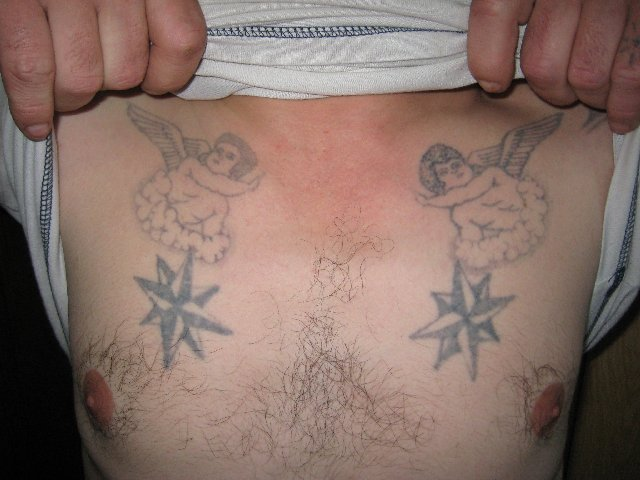tatu1_angel: (399, 107, 580, 284), (116, 96, 262, 265)
tatu4_zvezda: (117, 249, 237, 369), (409, 254, 519, 383)
